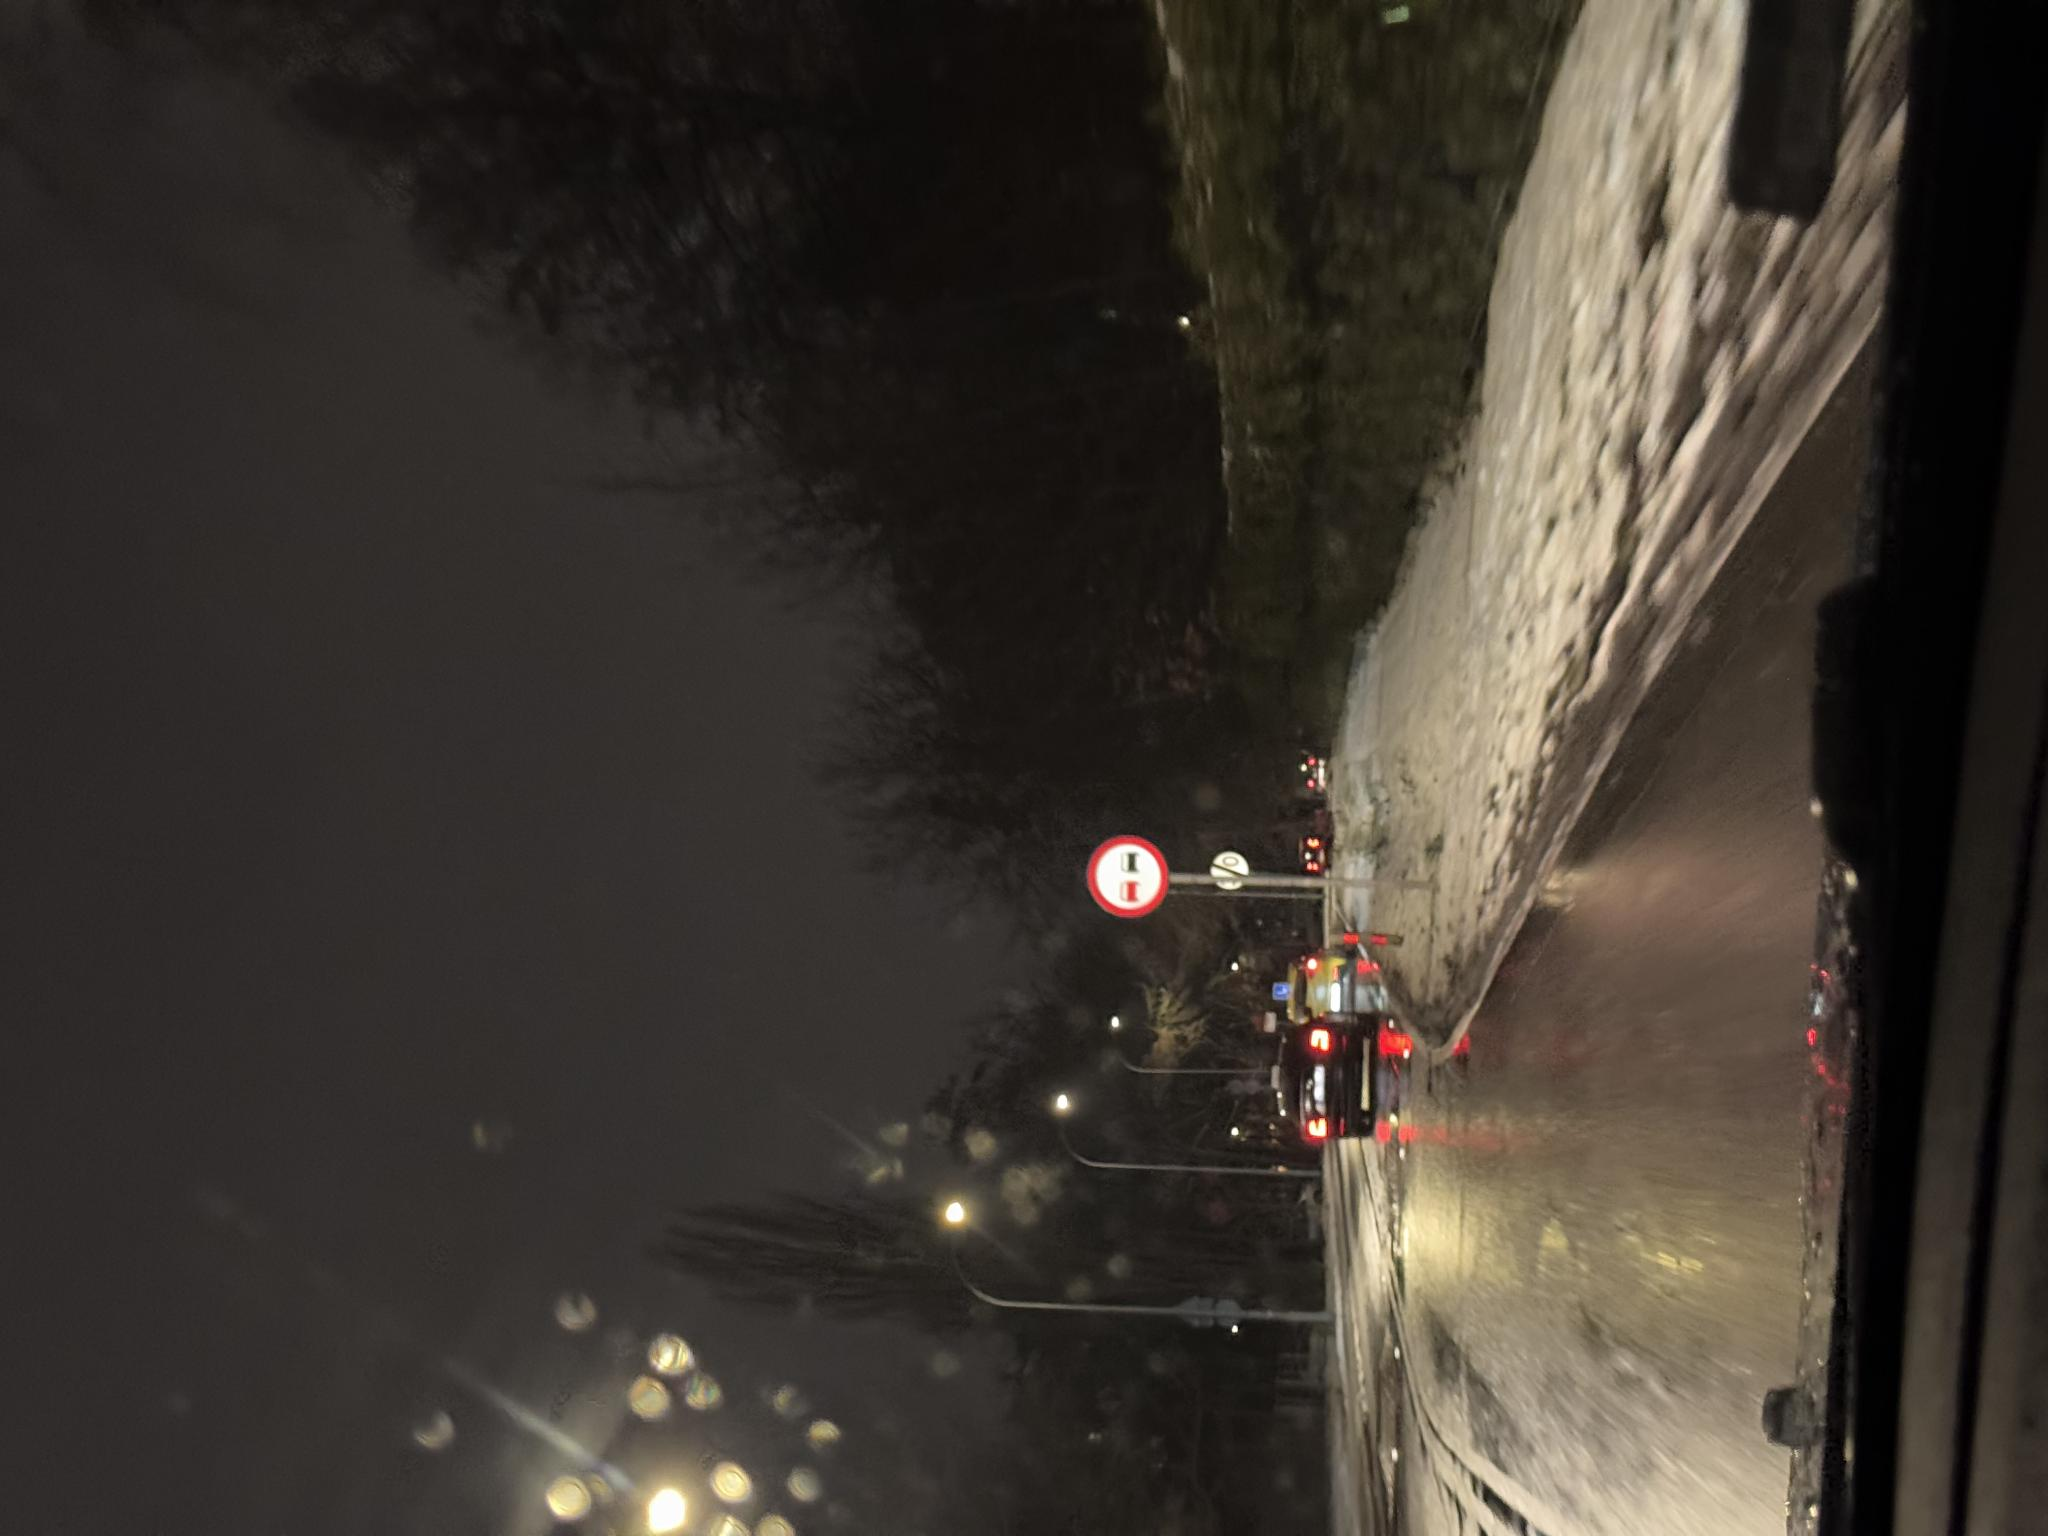prohibitory: (618, 1084, 702, 1170), (662, 1210, 686, 1250)
